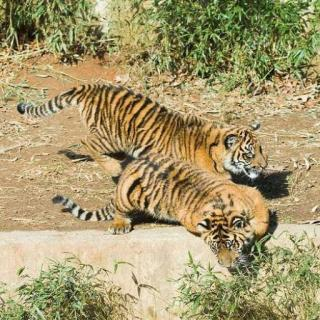Tiger: (16, 70, 291, 192), (65, 148, 288, 272)
